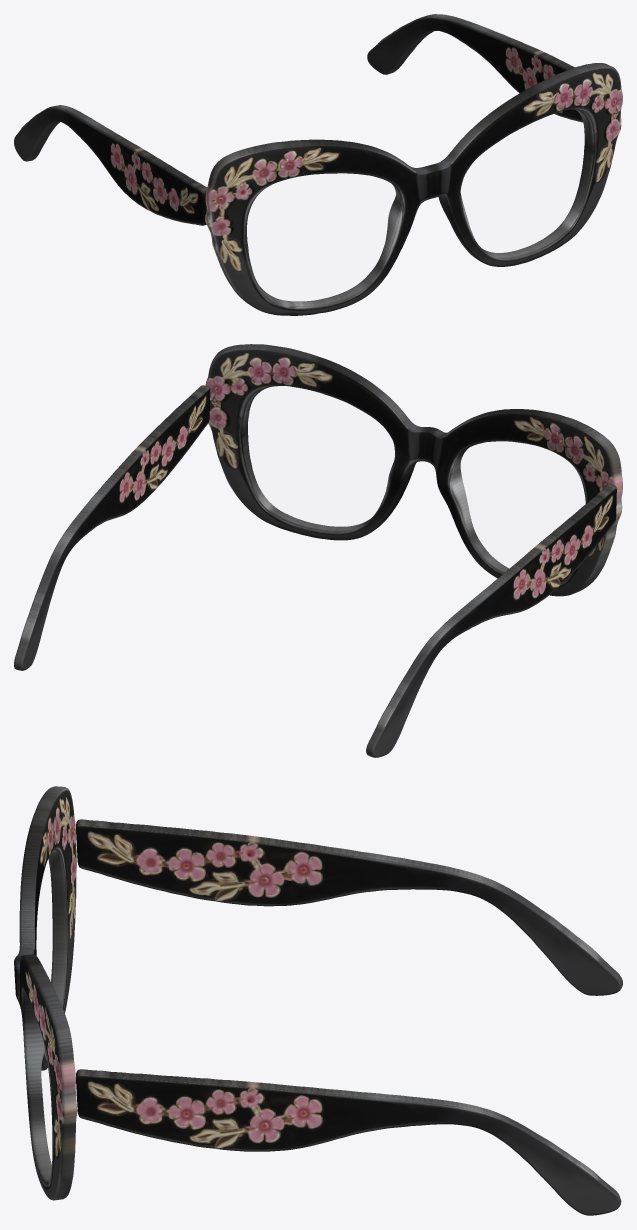
The model's file is glasses2.glb.
3 views of the same model, one above another, from view 1: azimuth 30°, elevation 25°; view 2: azimuth 150°, elevation 25°; view 3: azimuth 270°, elevation 25° (orthographic). The views are drawn at different scales.
Parts seen in each view (by area): view 1: front_3, side_02_2, side_1; view 2: front_3, side_02_2, side_1; view 3: side_02_2, side_1, front_3.
Boxes of the visible parts, x1,y1,x2,y2 form: front_3: (205, 63, 622, 315); side_02_2: (14, 105, 207, 225); side_1: (367, 14, 583, 122); front_3: (205, 344, 622, 596); side_02_2: (366, 484, 616, 757); side_1: (14, 385, 210, 670); side_02_2: (76, 819, 622, 995); side_1: (76, 1069, 621, 1215); front_3: (14, 786, 77, 1200).
Bounding box in the file's own units: 0.1655 × 0.0683 × 0.1669.
3 materials, 2 textured.
